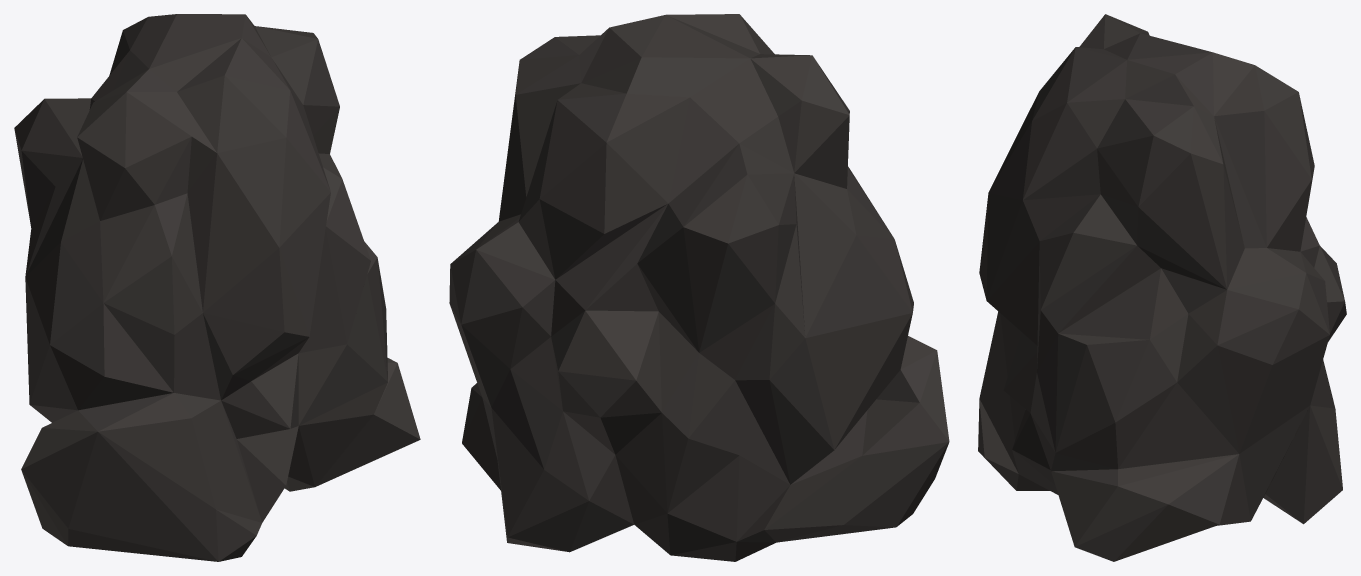
File: Rock_5.fbx
3 renders of one model, left to right at view 1: azimuth 30°, elevation 25°; view 2: azimuth 150°, elevation 25°; view 3: azimuth 270°, elevation 25°, orthographic. The views are drawn at different scales.
Visible parts, largest first — view 1: Group20290; view 2: Group20290; view 3: Group20290.
Boxes of the visible parts, box(x1,y1,x2,y2) form: Group20290: box(14, 14, 420, 561); Group20290: box(449, 14, 949, 561); Group20290: box(978, 14, 1346, 561).
Bounding box in the file's own units: 4.61 × 5.07 × 3.7.
